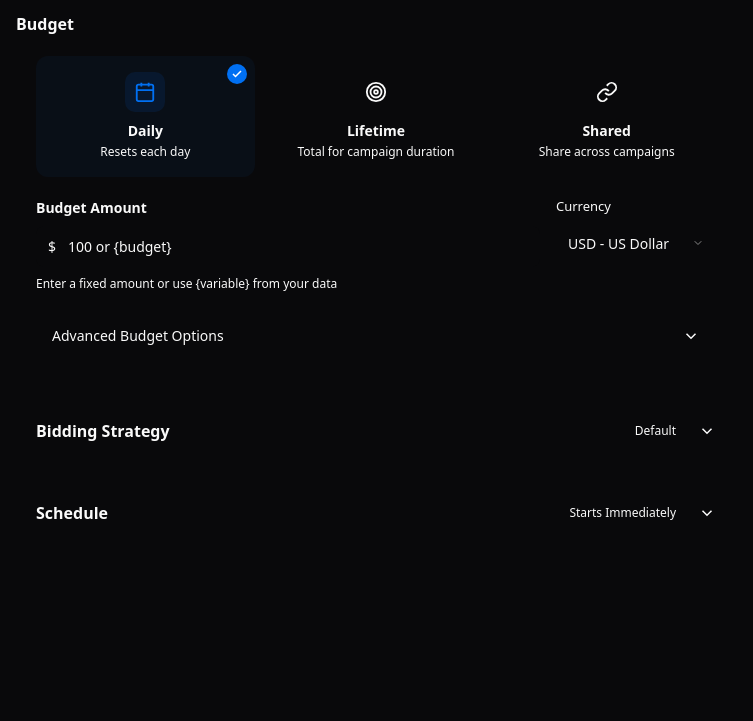
Test: BudgetBiddingConfig › Platform-specific Behavior › shows Reddit-specific strategies when platform is reddit
The width and height of the screenshot is (753, 721).
Expand bidding section
Click the button "Bidding Strategy Default" at (103, 431), box [16,402,736,460]
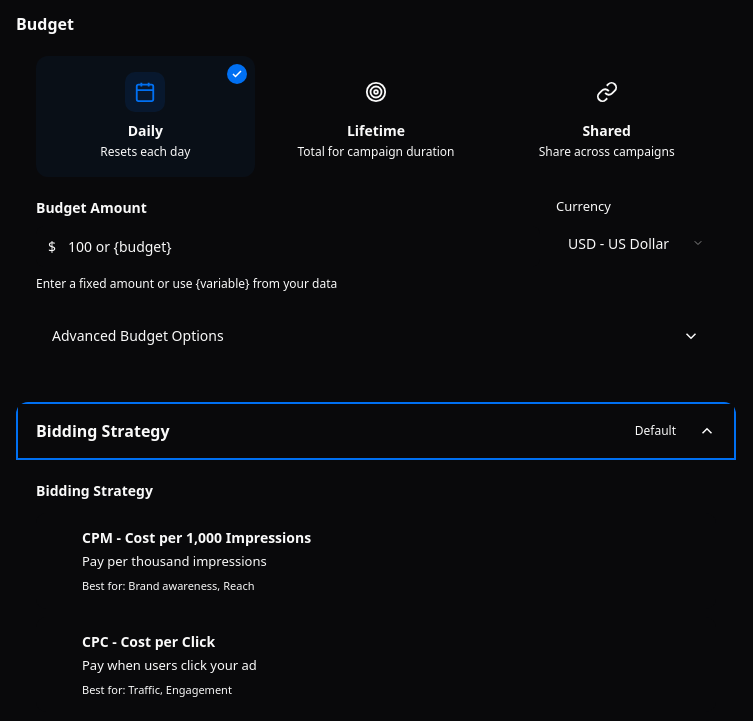
Expected: the radio button with test id "strategy-reddit_cpc" is shown, [36,617,716,712]
